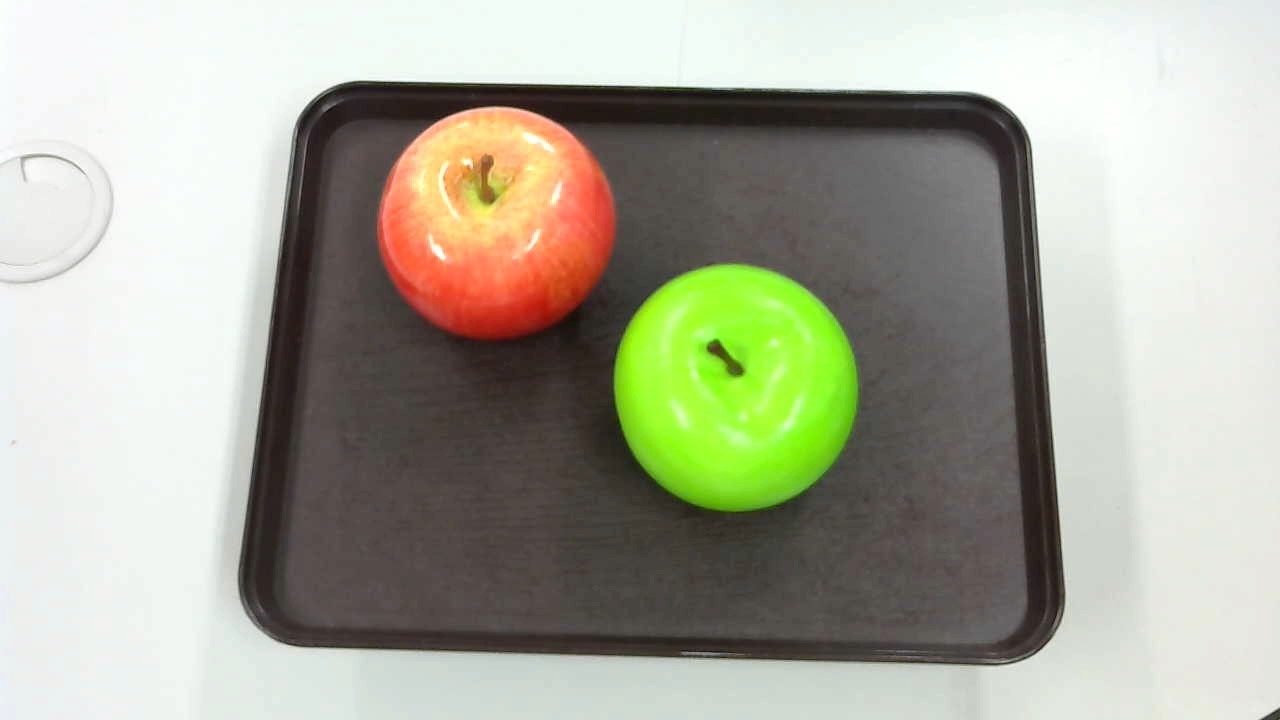green apple: (610, 263, 856, 509)
red apple: (369, 103, 620, 347)
